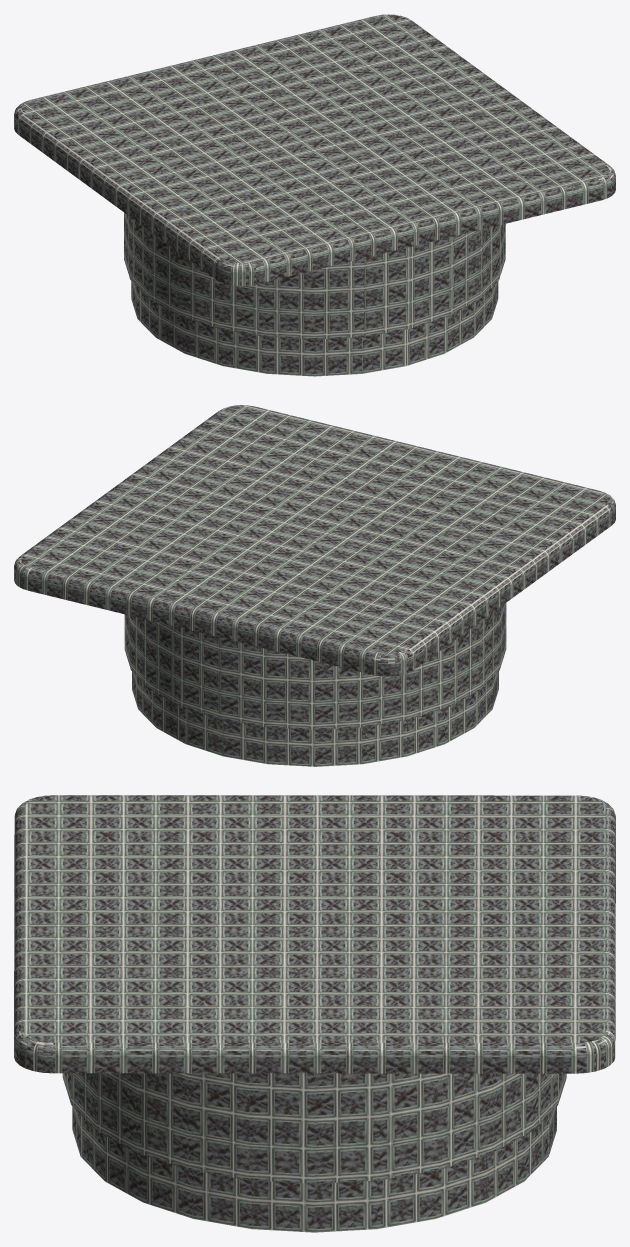
File: original-19.obj
3 views of the same model, one above another, from view 1: azimuth 30°, elevation 25°; view 2: azimuth 150°, elevation 25°; view 3: azimuth 270°, elevation 25° (orthographic). The views are drawn at different scales.
Visible parts, largest first — view 1: Group6/mesh17/mesh17-geometry#mesh17-geometry; view 2: Group6/mesh17/mesh17-geometry#mesh17-geometry; view 3: Group6/mesh17/mesh17-geometry#mesh17-geometry.
Part boxes in pixels (x1,y1,x2,y2): Group6/mesh17/mesh17-geometry#mesh17-geometry: [14, 14, 615, 376]; Group6/mesh17/mesh17-geometry#mesh17-geometry: [14, 405, 615, 766]; Group6/mesh17/mesh17-geometry#mesh17-geometry: [14, 795, 615, 1232].
Bounding box in the file's own units: 0.2927 × 0.1128 × 0.2918.
1 material, 1 textured.
